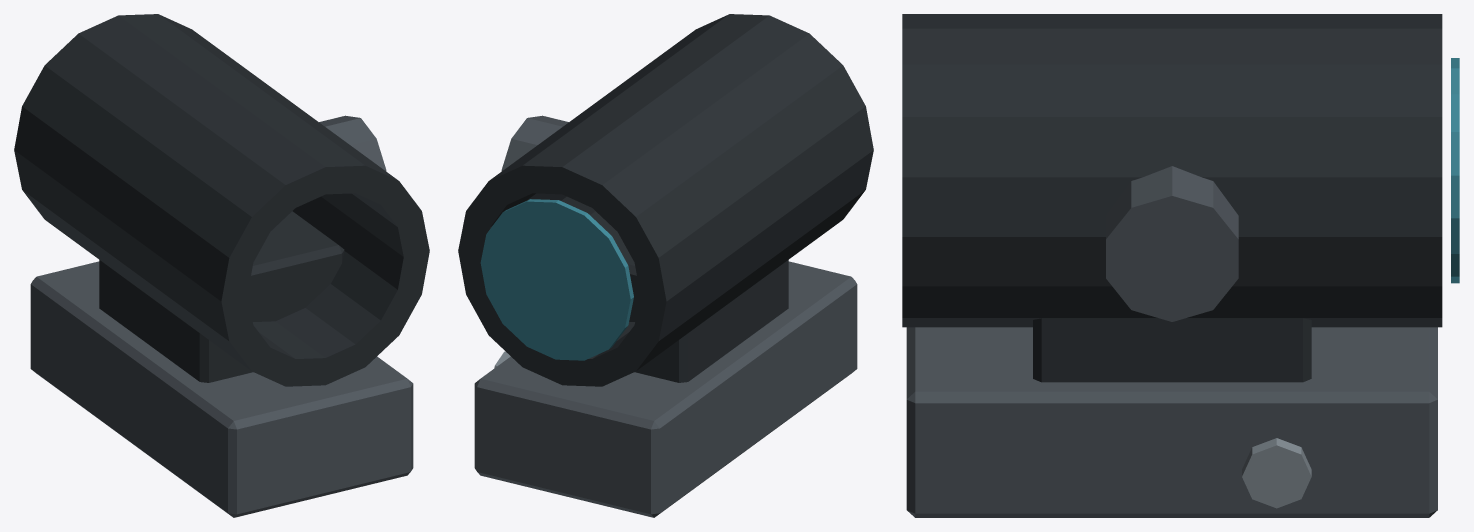
File: att_optic_dove_dot.glb
The picture shows the model from 3 angles, left to right: view 1: azimuth 30°, elevation 25°; view 2: azimuth 150°, elevation 25°; view 3: azimuth 270°, elevation 25°; orthographic projection. The views are drawn at different scales.
Visible parts, largest first — view 1: Geometry_att_optic_dove_dot; view 2: Geometry_att_optic_dove_dot; view 3: Geometry_att_optic_dove_dot.
Boxes of the visible parts, x1,y1,x2,y2 form: Geometry_att_optic_dove_dot: (14,14,429,517); Geometry_att_optic_dove_dot: (458,14,873,517); Geometry_att_optic_dove_dot: (902,14,1459,517).
Bounding box in the file's own units: 0.042 × 0.055 × 0.064.
